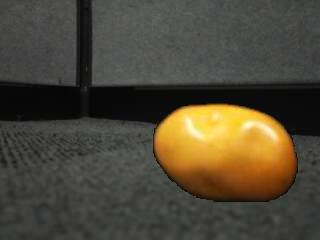Potato: (150, 101, 298, 203)
